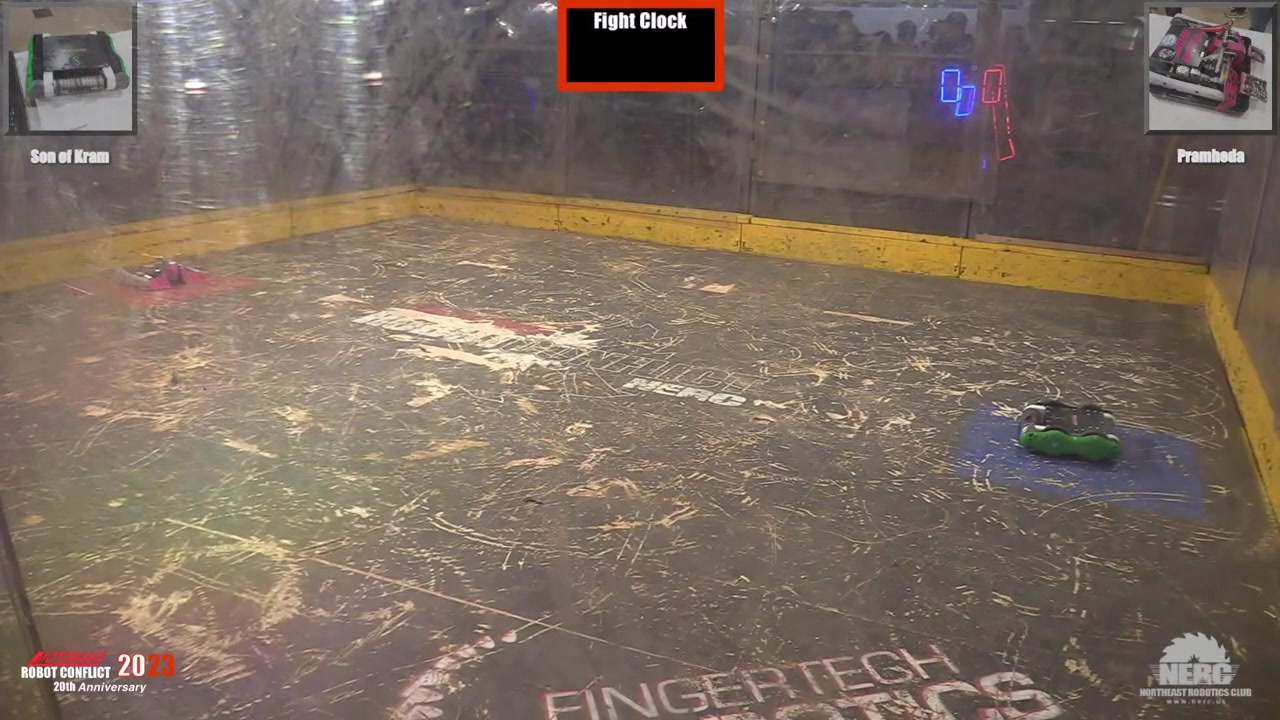combatbot: (1021, 402, 1121, 466), (120, 264, 209, 291)
